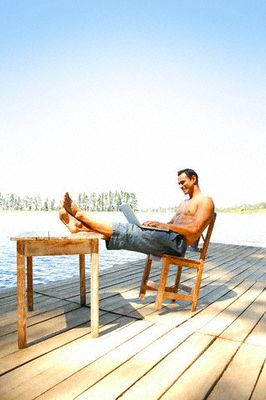person: (57, 168, 216, 259)
